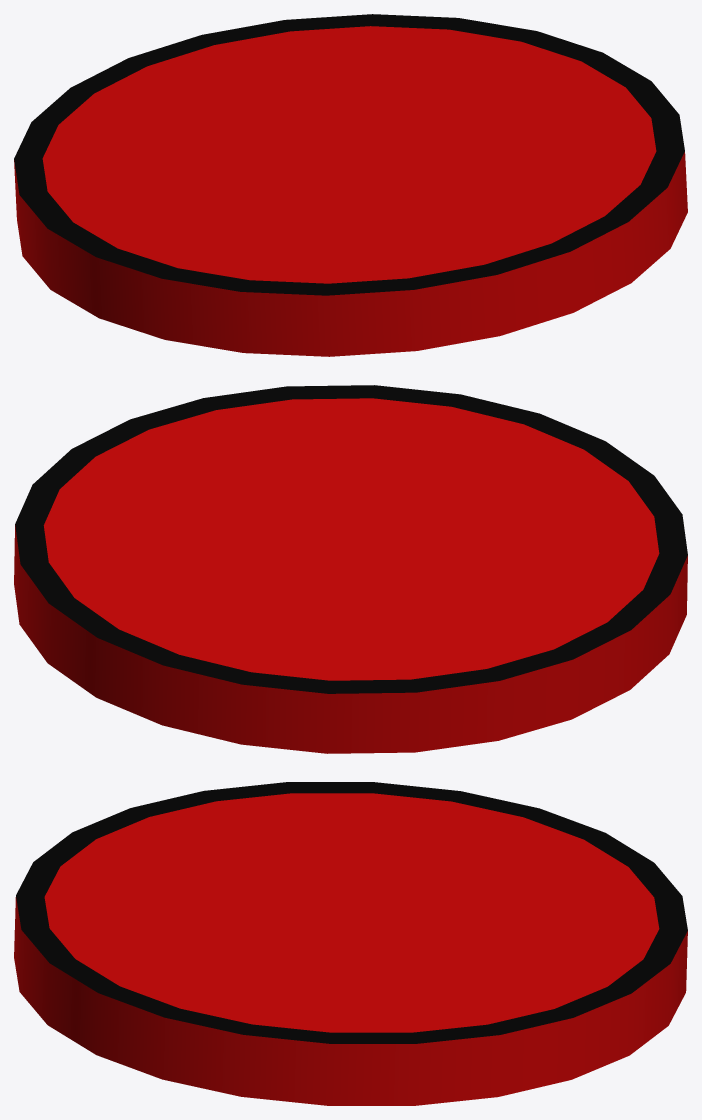
File: Puck.dae
3 views of the same model, one above another, from view 1: azimuth 30°, elevation 25°; view 2: azimuth 150°, elevation 25°; view 3: azimuth 270°, elevation 25° (orthographic).
Parts seen in each view (by area): view 1: group_0 (×3); view 2: group_0 (×3); view 3: group_0 (×3).
Part boxes in pixels (<box>): group_0 (×3): <box>14,14,687,356</box>; group_0 (×3): <box>14,385,687,753</box>; group_0 (×3): <box>14,782,687,1105</box>.
Bounding box in the file's own units: 2.5 × 2.5 × 0.3605.
